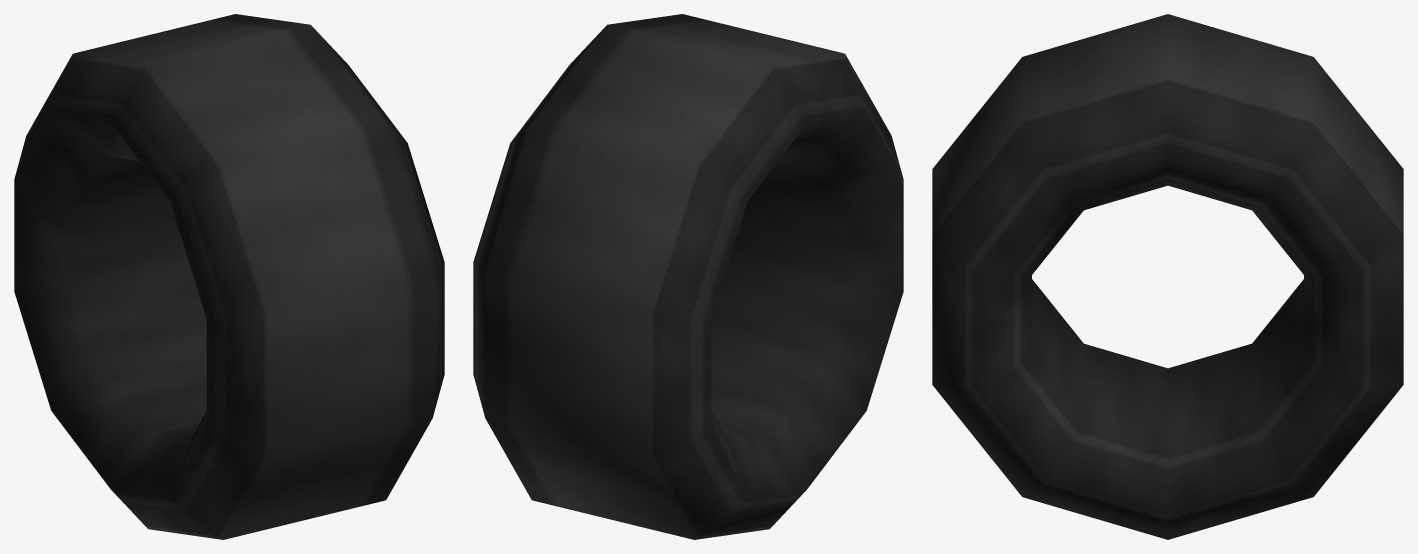
Rendered from formula-tire.glb.
The picture shows the model from 3 angles, left to right: view 1: azimuth 30°, elevation 25°; view 2: azimuth 150°, elevation 25°; view 3: azimuth 270°, elevation 25°; orthographic projection. The views are drawn at different scales.
Visible parts, largest first — view 1: formula_tire; view 2: formula_tire; view 3: formula_tire.
Part boxes in pixels (bbox=[...]): formula_tire: bbox=[14, 14, 444, 539]; formula_tire: bbox=[473, 14, 903, 539]; formula_tire: bbox=[932, 14, 1403, 539].
Bounding box in the file's own units: 0.38 × 0.71 × 0.6753.
1 material, 1 textured.
